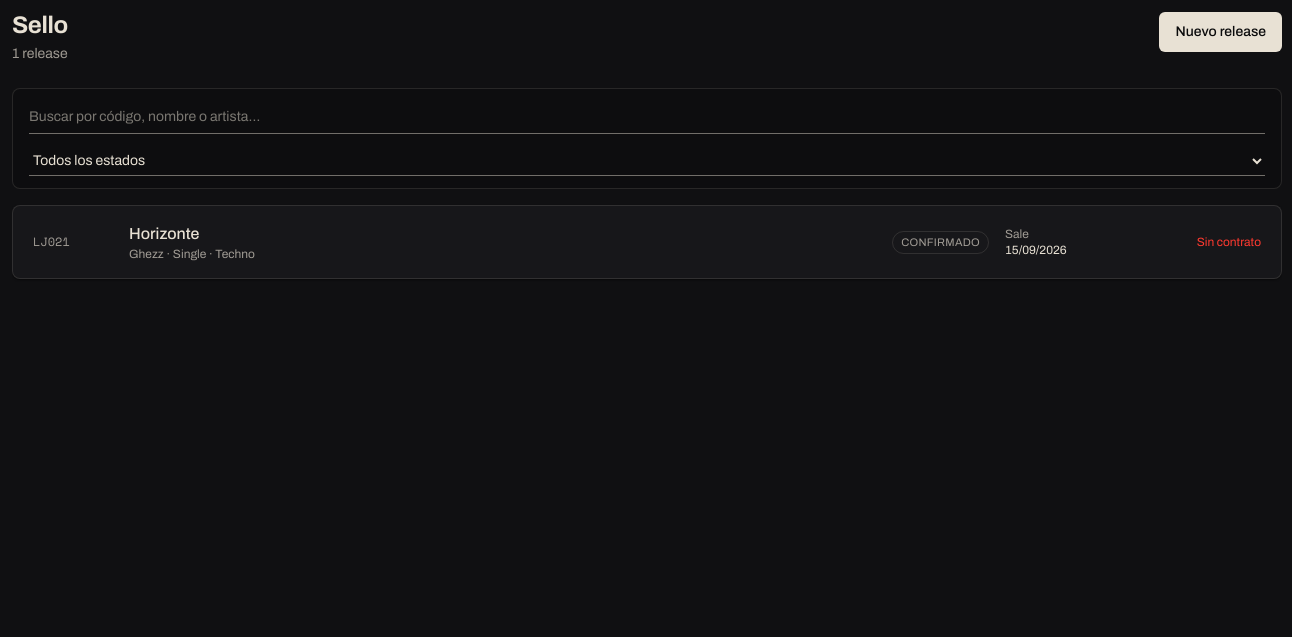
Test: los contratos y las apariciones › distingue un contrato general del artista
This screenshot has width=1292, height=637.
Click the text "Horizonte". click: [164, 234]
box: left=129, top=225, right=199, bottom=242
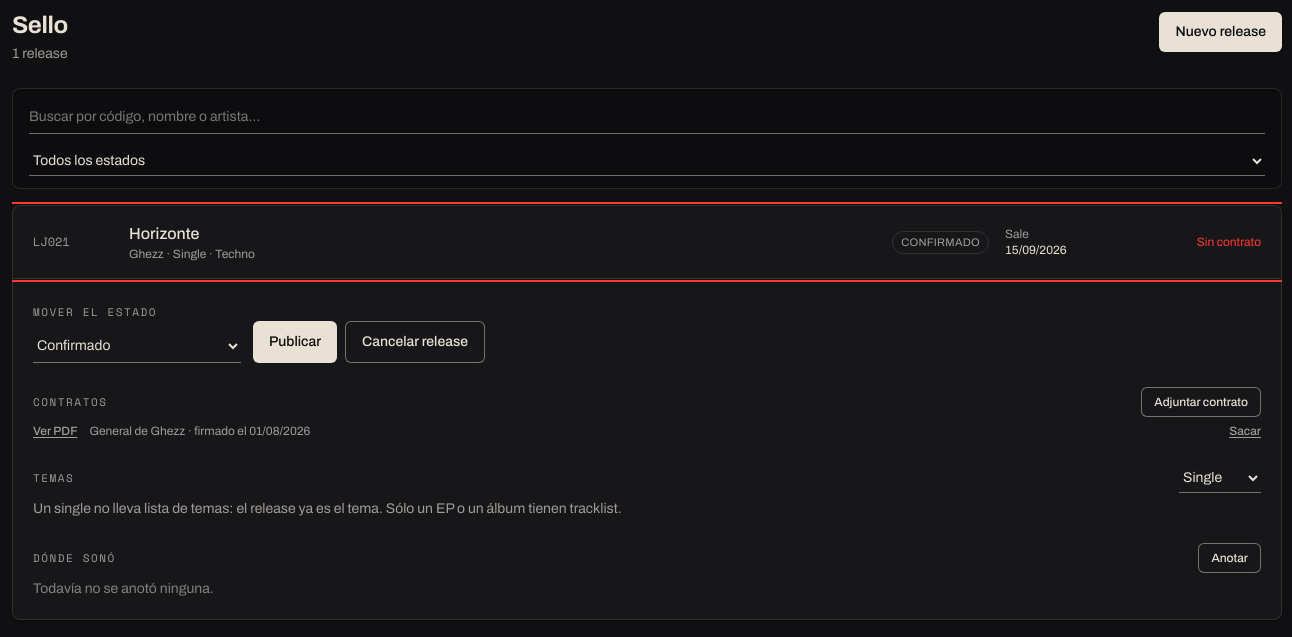
Check: the text "General de Ghezz · firmado el 01/08/2026" is shown, box left=90, top=423, right=310, bottom=439
